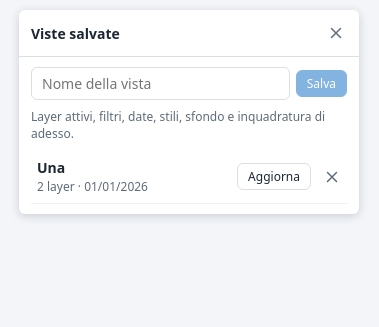
Test case: ViewsPanel con controllo accessi (PostGIS) › scrittura negata da GeoServer (403): errore leggibile, la lista resta com'era
The width and height of the screenshot is (379, 327).
Expected: the button "Una 2 layer · 01/01/2026" is shown, top-left (31, 154), bottom-right (231, 199)
Type "Nuova" into the field labelled "Nome della vista".
click(160, 84); type("Nuova")  # box top-left (31, 67), bottom-right (290, 100)
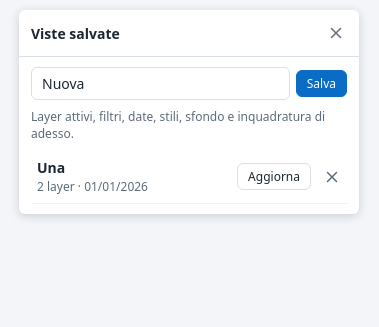
Click the button "Salva".
click(321, 84)  # box top-left (296, 70), bottom-right (347, 97)
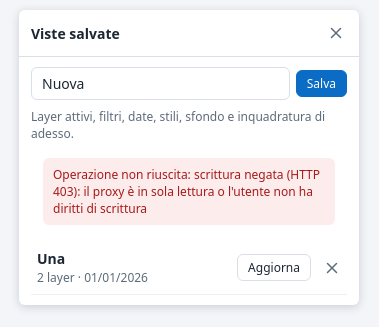
Now the message shows "403", box top-left (53, 166), bottom-right (320, 217)
